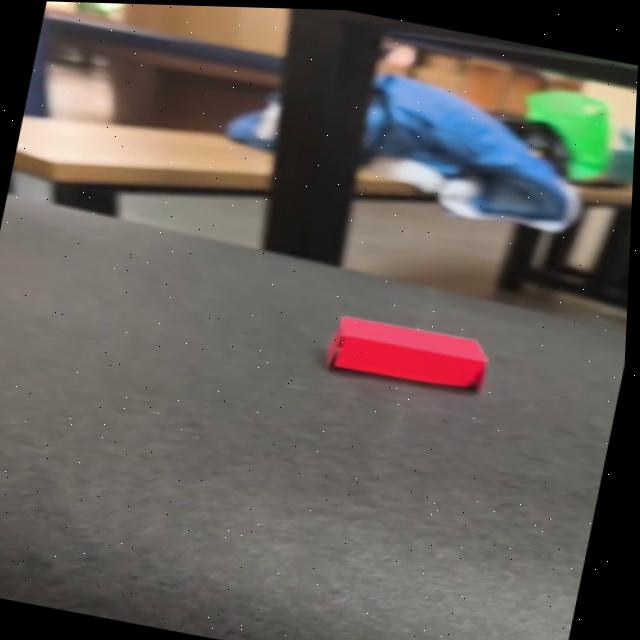red block: (321, 310, 493, 397)
